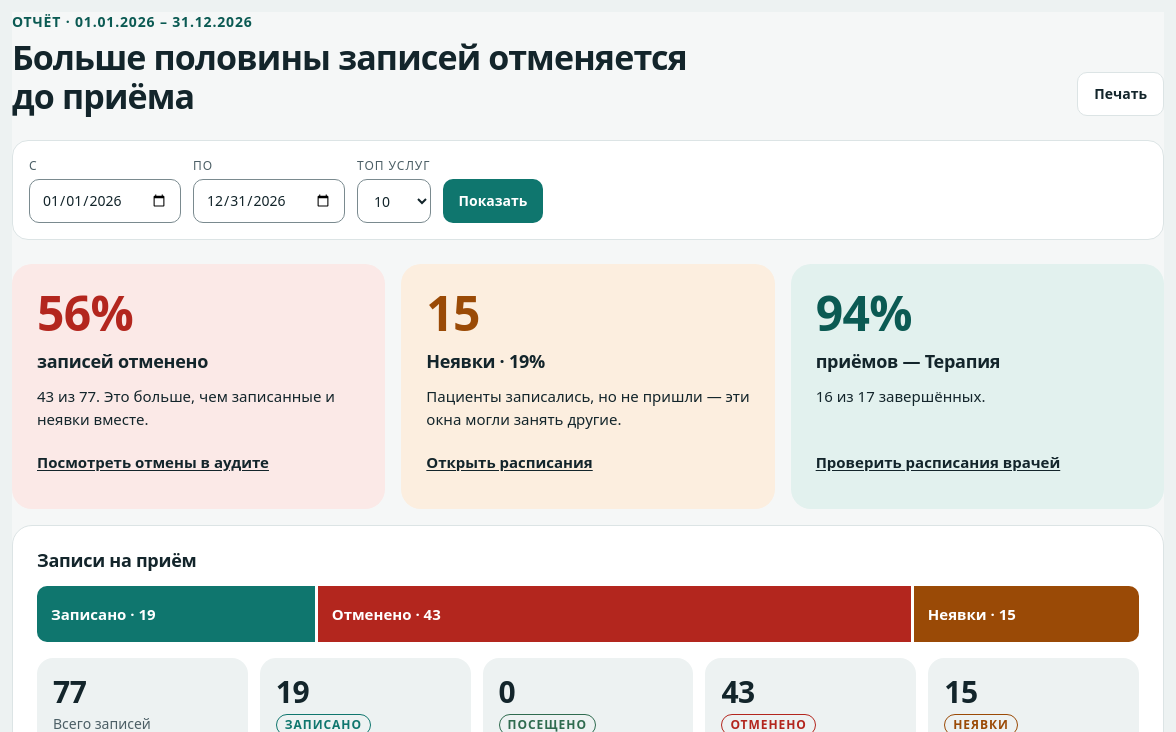
Test case: AnalyticsPanel › should refuse a period that ends before it starts when the filter is applied
Check: the text "77" is shown, box top-left (53, 671), bottom-right (86, 712)
Type "2025-12-31" into the date field labelled "По". click: x=269, y=201
box: top-left (193, 179), bottom-right (345, 223)
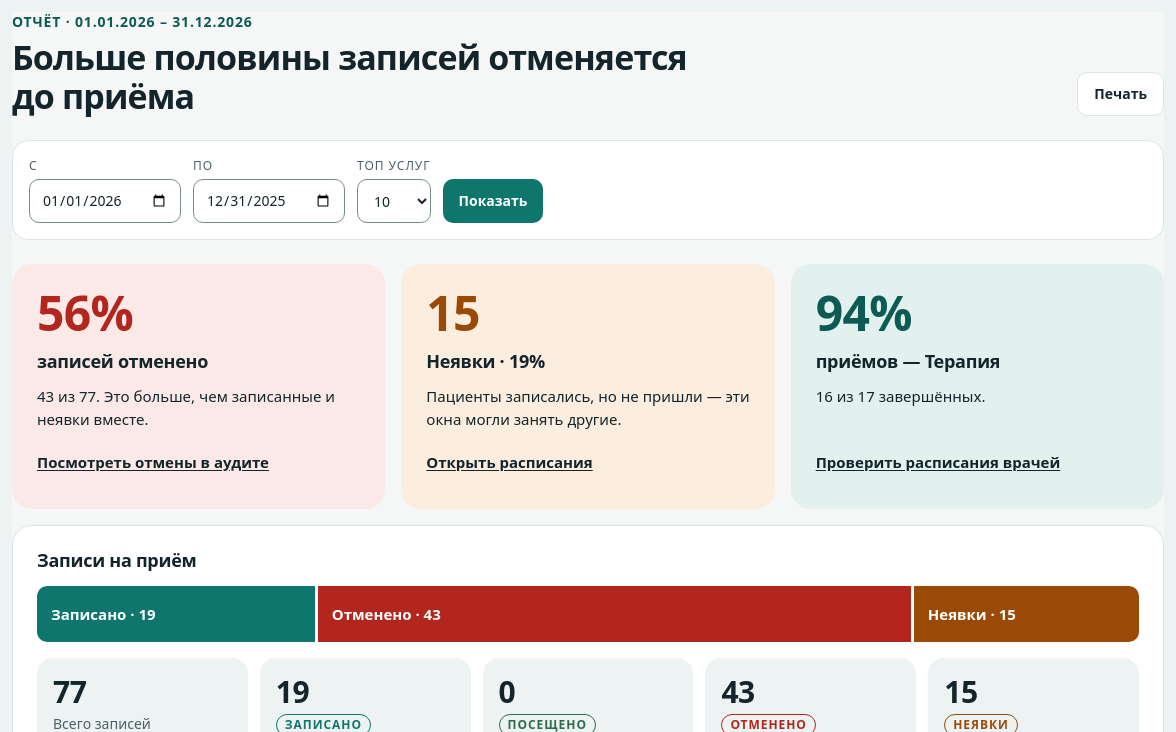
Click the button "Показать". click: x=493, y=201
box: top-left (443, 179), bottom-right (543, 223)
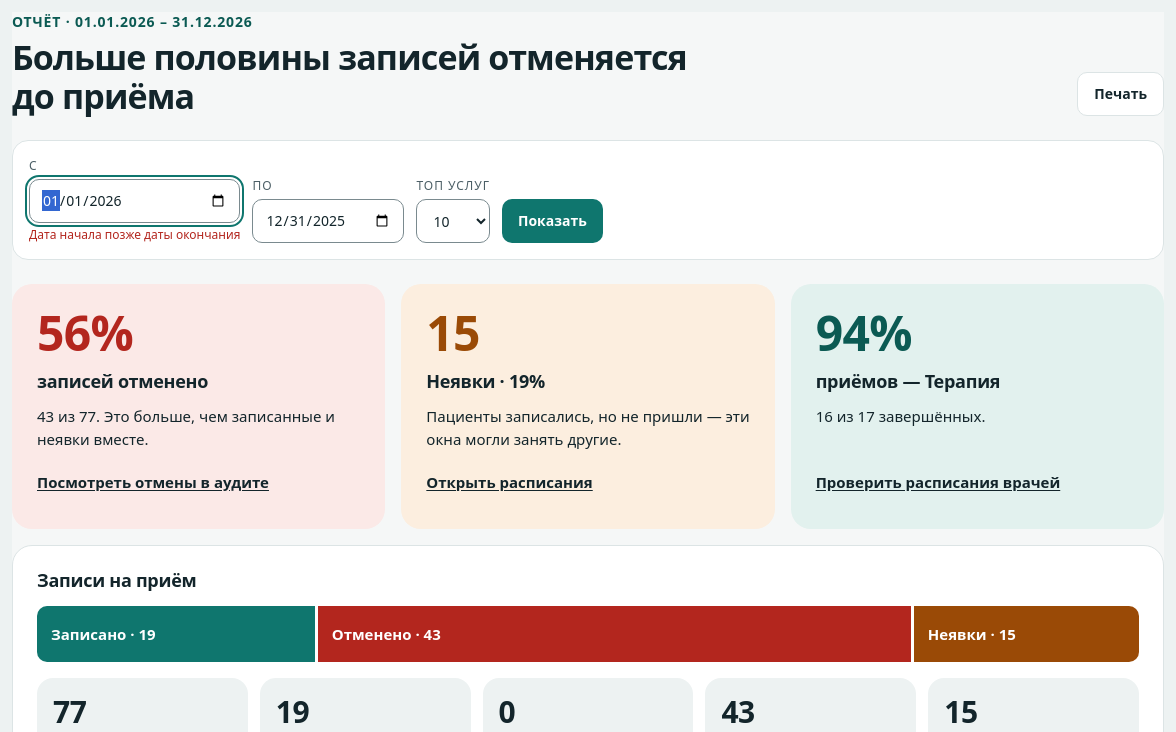
Check: the text "Дата начала позже даты окончания" is shown, box top-left (29, 227), bottom-right (240, 243)
